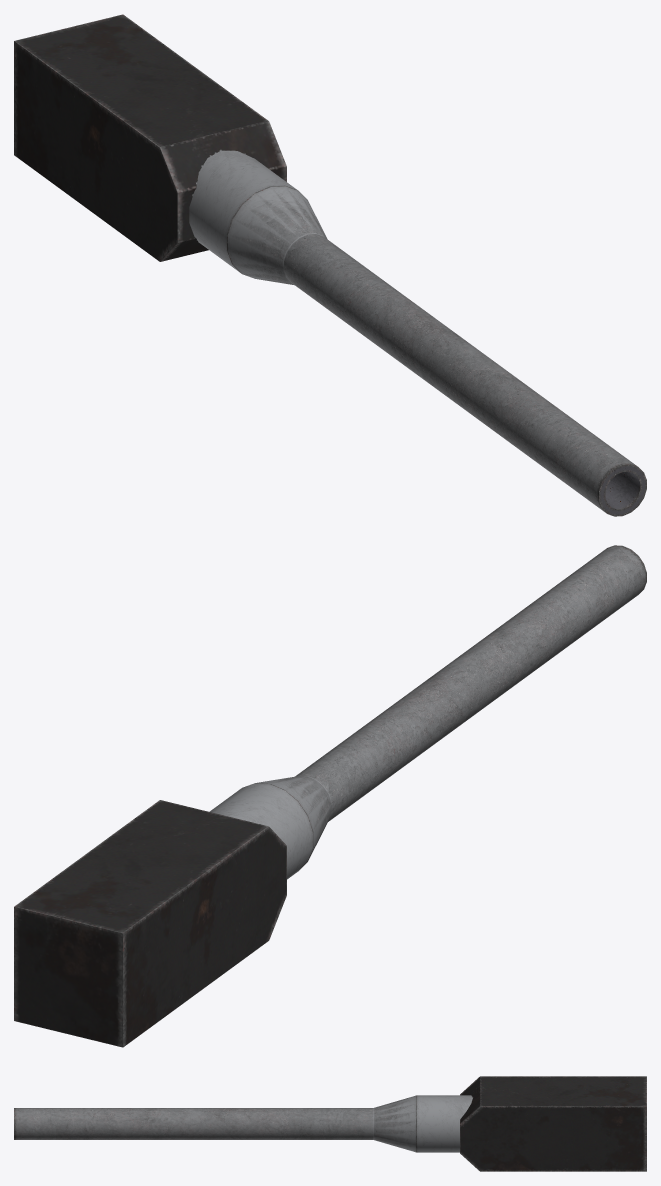
The model's file is gun_m_1.fbx.
The picture shows the model from 3 angles, top to bottom: view 1: azimuth 30°, elevation 25°; view 2: azimuth 150°, elevation 25°; view 3: azimuth 270°, elevation 25°; orthographic projection. The views are drawn at different scales.
Visible parts, largest first — view 1: gun_m_1; view 2: gun_m_1; view 3: gun_m_1.
Part boxes in pixels (x1=…): gun_m_1: x1=14, y1=14, x2=646, y2=516; gun_m_1: x1=14, y1=545, x2=646, y2=1047; gun_m_1: x1=14, y1=1076, x2=646, y2=1171.
Size of the model in its own units: 1 by 1 by 8.8.
